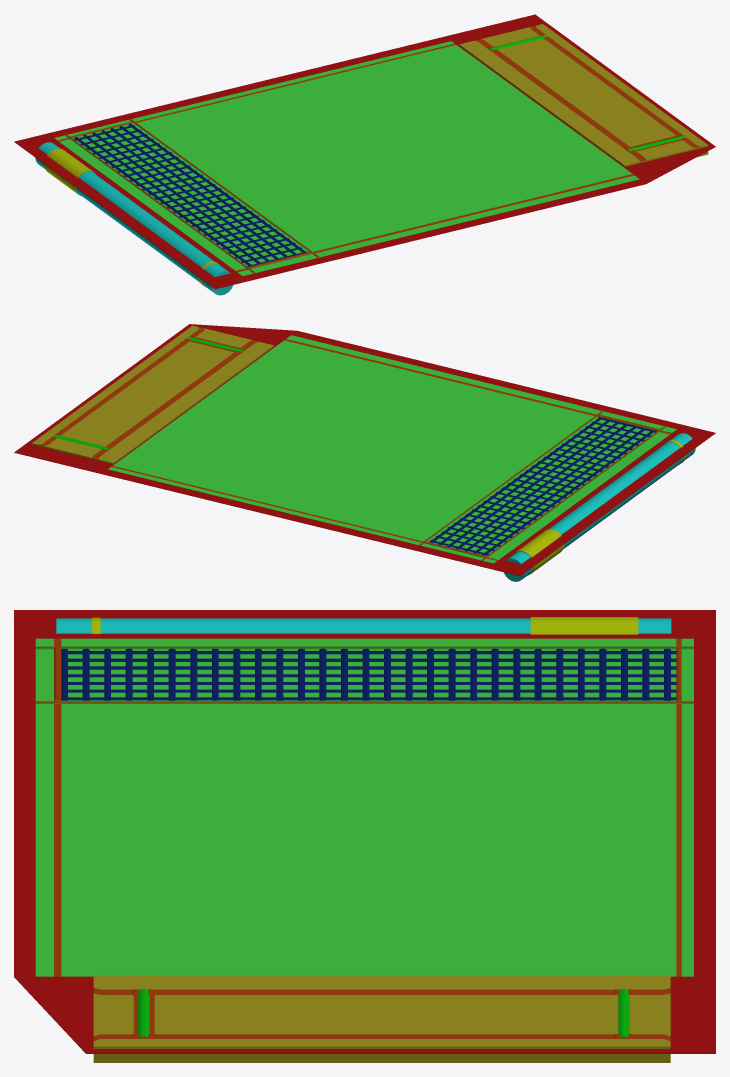
File: floor 3rd small room test.FBX
3 renders of one model, top to bottom at view 1: azimuth 30°, elevation 25°; view 2: azimuth 150°, elevation 25°; view 3: azimuth 270°, elevation 25°, orthographic. The views are drawn at different scales.
Parts seen in each view (by area): view 1: floor second small room; view 2: floor second small room; view 3: floor second small room.
Part boxes in pixels (<box>): floor second small room: <box>14,14,715,295</box>; floor second small room: <box>14,324,715,581</box>; floor second small room: <box>14,610,715,1062</box>.
Size of the model in its own units: 7456 by 338 by 4988.
